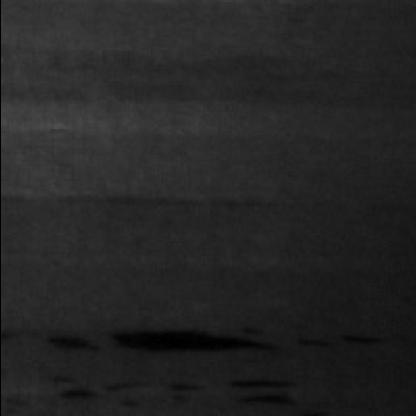inclusion: (13, 57, 376, 116), (5, 183, 282, 229), (96, 324, 286, 374), (283, 322, 393, 362), (102, 378, 220, 414), (216, 374, 302, 412), (40, 376, 106, 412), (38, 331, 100, 360)
